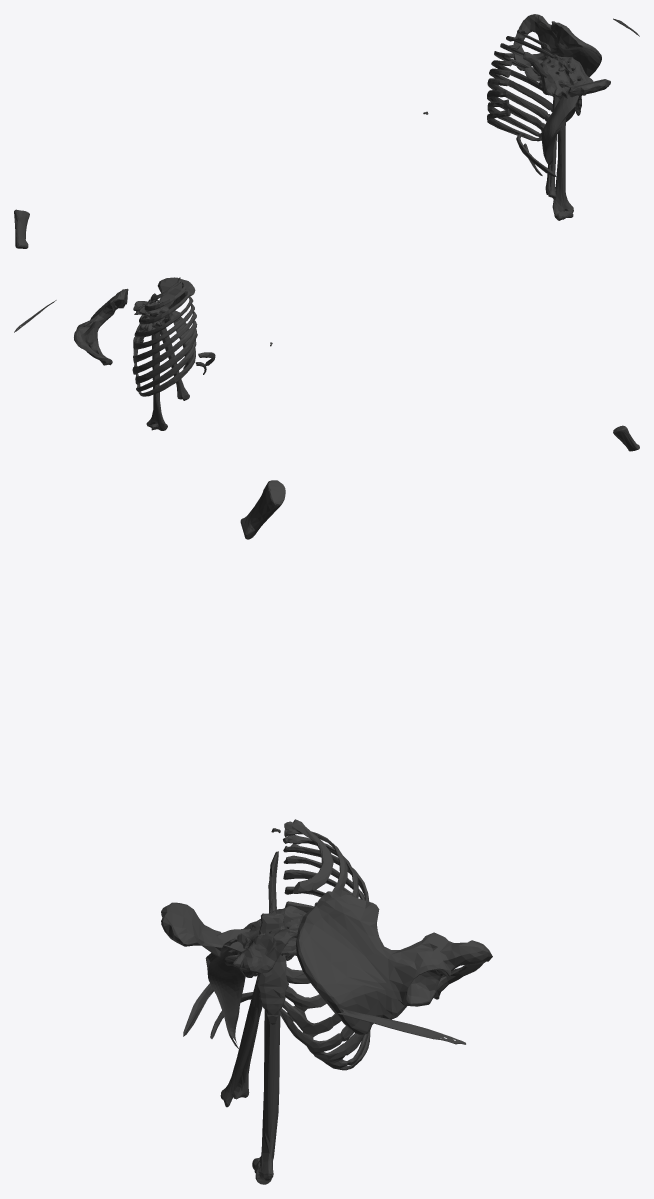
Rendered from sharedassets44.glb.
3 views of the same model, one above another, from view 1: azimuth 30°, elevation 25°; view 2: azimuth 150°, elevation 25°; view 3: azimuth 270°, elevation 25° (orthographic). The views are drawn at different scales.
Visible parts, largest first — view 1: 0037_Ilium, R__001012, 0072_S01-05 Sacrum__001242, 0000_Deltoid, posterior head, R__100087, 0003_Humerus _arm, brachium_, R__000807, 0087_Seventh rib _07_, R__002279, 0035_Ischium, R__001010, 0086_Sixth rib _06_, R__002278, 0078_Eighth rib _08_, R__002280, 0007_2nd Middle phalanx _hand_, R__000815, 0080_Tenth rib _10_, R__002282, 0079_Ninth rib _09_, R__002281, 0074_Manubrium__001162 (+3 smaller); view 2: 0037_Ilium, R__001012, 0003_Humerus _arm, brachium_, R__000807, 0078_Eighth rib _08_, R__002280, 0087_Seventh rib _07_, R__002279, 0074_Manubrium__001162, 0086_Sixth rib _06_, R__002278, 0035_Ischium, R__001010, 0079_Ninth rib _09_, R__002281, 0085_Fifth rib _05_, R__002277, 0080_Tenth rib _10_, R__002282, 0072_S01-05 Sacrum__001242, 0084_Fourth rib _04_, R__002276 (+3 smaller); view 3: 0037_Ilium, R__001012, 0003_Humerus _arm, brachium_, R__000807, 0072_S01-05 Sacrum__001242, 0035_Ischium, R__001010, 0000_Deltoid, posterior head, R__100087, 0074_Manubrium__001162, 0075_Body of sternum__001163, 0036_Pubis, R__001011, 0007_2nd Middle phalanx _hand_, R__000815, 0031_Ulna _forearm, antebrachium_, R__000808, 0086_Sixth rib _06_, R__002278, 0081_First rib _01_, R__002273 (+2 smaller).
Boxes of the visible parts, x1,y1,x2,y2 form: 0037_Ilium, R__001012: (547,21,601,77); 0072_S01-05 Sacrum__001242: (540,54,593,99); 0000_Deltoid, posterior head, R__100087: (541,79,585,164); 0003_Humerus _arm, brachium_, R__000807: (552,119,573,220); 0087_Seventh rib _07_, R__002279: (487,78,575,121); 0035_Ischium, R__001010: (513,14,552,44); 0086_Sixth rib _06_, R__002278: (489,68,552,111); 0078_Eighth rib _08_, R__002280: (487,89,545,132); 0007_2nd Middle phalanx _hand_, R__000815: (14,209,29,248); 0080_Tenth rib _10_, R__002282: (487,109,541,141); 0079_Ninth rib _09_, R__002281: (487,99,541,137); 0074_Manubrium__001162: (567,79,610,97); 0037_Ilium, R__001012: (86,288,128,342); 0003_Humerus _arm, brachium_, R__000807: (146,331,167,430); 0078_Eighth rib _08_, R__002280: (135,329,197,384); 0087_Seventh rib _07_, R__002279: (132,320,197,374); 0074_Manubrium__001162: (157,277,195,304); 0086_Sixth rib _06_, R__002278: (133,311,196,363); 0035_Ischium, R__001010: (74,320,98,357); 0079_Ninth rib _09_, R__002281: (136,340,196,391); 0085_Fifth rib _05_, R__002277: (133,304,194,349); 0080_Tenth rib _10_, R__002282: (138,348,195,396); 0072_S01-05 Sacrum__001242: (133,300,180,323); 0084_Fourth rib _04_, R__002276: (134,296,193,337); 0037_Ilium, R__001012: (296,890,418,1034); 0003_Humerus _arm, brachium_, R__000807: (252,1009,280,1184); 0072_S01-05 Sacrum__001242: (224,906,306,977); 0035_Ischium, R__001010: (409,932,492,977); 0000_Deltoid, posterior head, R__100087: (205,938,245,1048); 0074_Manubrium__001162: (161,902,223,956); 0075_Body of sternum__001163: (256,913,288,1015); 0036_Pubis, R__001011: (407,966,474,1006); 0007_2nd Middle phalanx _hand_, R__000815: (240,480,285,539); 0031_Ulna _forearm, antebrachium_, R__000808: (220,973,262,1107); 0086_Sixth rib _06_, R__002278: (282,869,352,1036); 0081_First rib _01_, R__002273: (284,819,333,893).
Size of the model in its own units: 0.7785 by 0.2153 by 0.1959.
Materials: 1 (1 with a texture image).
